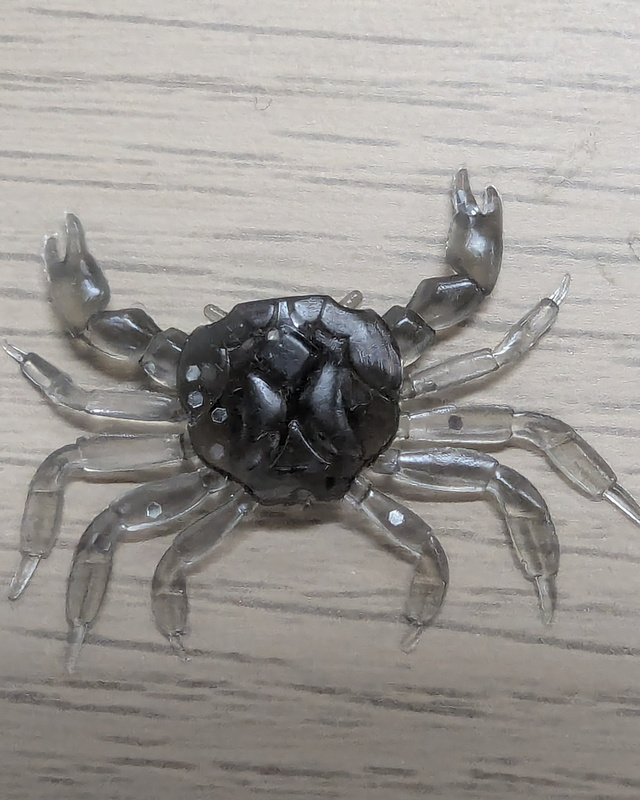crab1: (1, 165, 640, 671)
